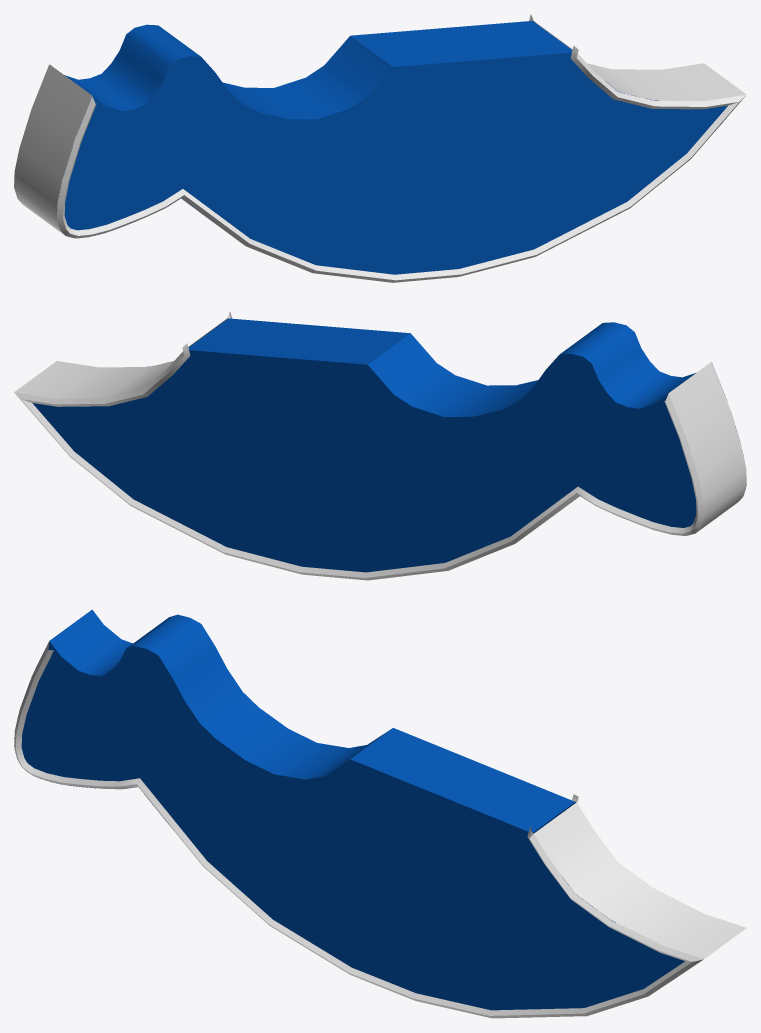
File: smTop.fbx
3 views of the same model, one above another, from view 1: azimuth 30°, elevation 25°; view 2: azimuth 150°, elevation 25°; view 3: azimuth 330°, elevation 25° (orthographic).
Parts seen in each view (by area): view 1: Sonic Head, Outline; view 2: Sonic Head, Outline; view 3: Sonic Head, Outline.
Boxes of the visible parts, x1,y1,x2,y2 form: Sonic Head: (57, 21, 727, 274); Outline: (14, 14, 746, 282); Sonic Head: (32, 318, 743, 572); Outline: (14, 312, 746, 580); Sonic Head: (14, 609, 684, 1010); Outline: (14, 642, 746, 1018).
Bounding box in the file's own units: 0.4608 × 0.1828 × 0.0547.
2 materials, 1 textured.
